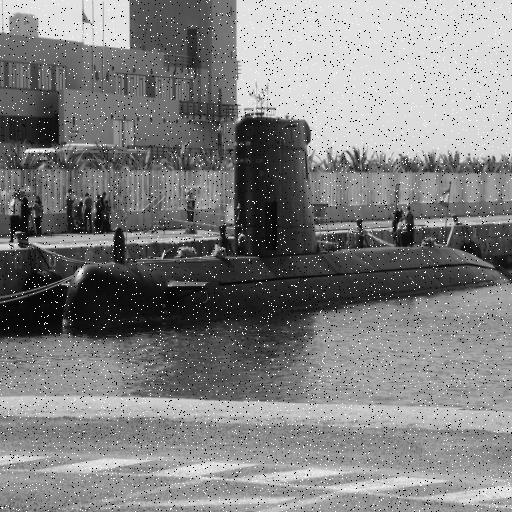submarine: (63, 116, 512, 337)
